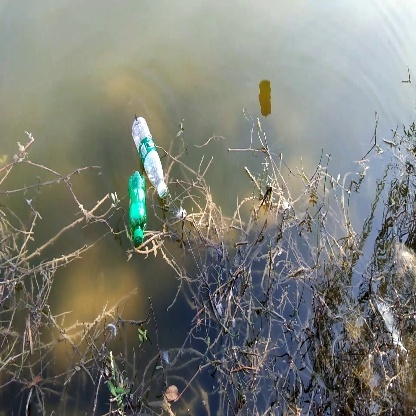bottle: (130, 111, 175, 197), (125, 172, 153, 244)
